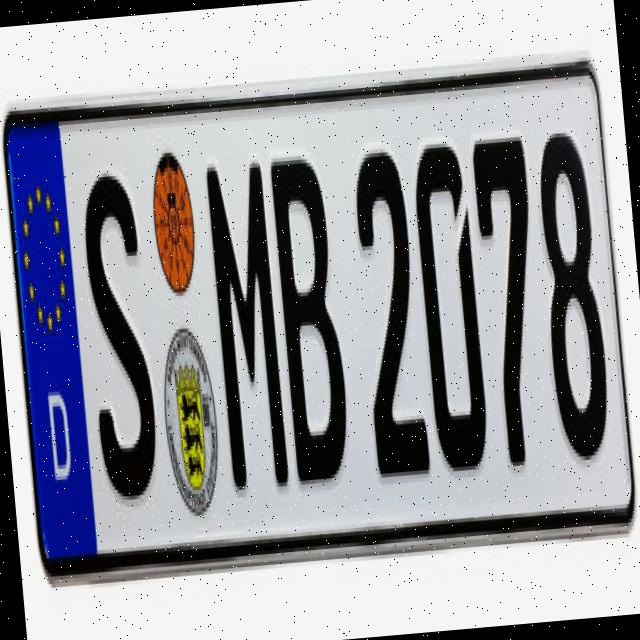Allemagne: (0, 102, 100, 574)
EU: (0, 55, 638, 568)
